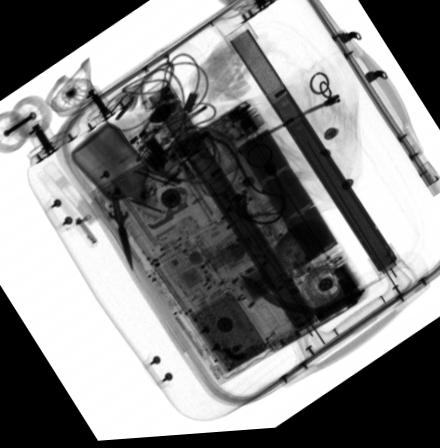Scissors: (89, 179, 144, 273)
